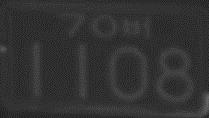0: (106, 45, 148, 102), (89, 12, 117, 39)
1: (66, 42, 100, 103), (21, 39, 53, 98)
7: (60, 12, 86, 38)
8: (154, 47, 195, 104)
버: (123, 15, 151, 39)
